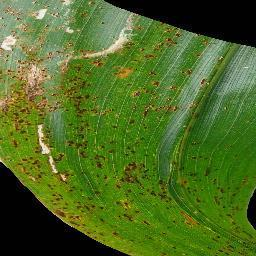Corn_Common_Rust: (0, 113, 171, 256), (0, 0, 185, 112), (202, 177, 256, 256), (185, 99, 203, 243), (171, 114, 184, 256), (190, 29, 214, 59), (198, 73, 210, 88), (216, 53, 228, 67), (186, 62, 193, 83)
